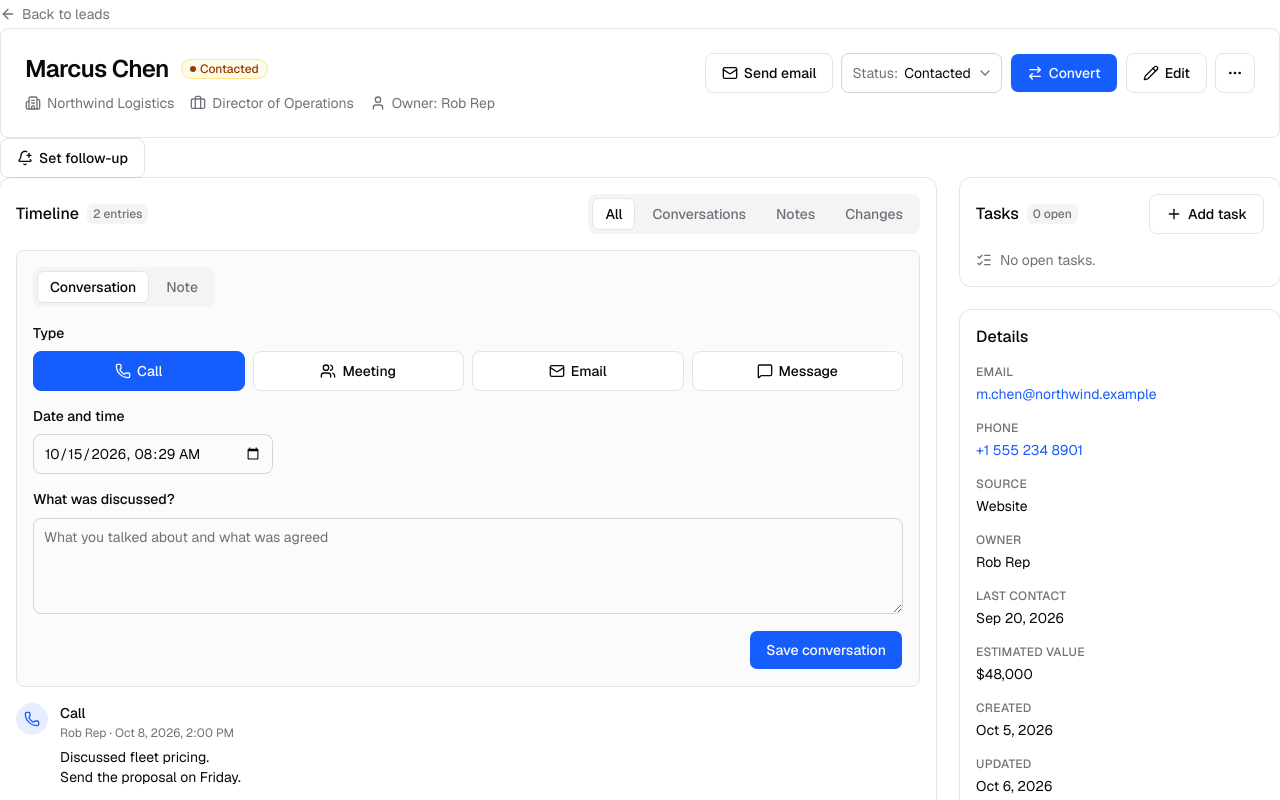
LeadDetailPage › offers Send email to every role that may write, and opens the composer for the lead
Expected: the heading "Marcus Chen" is shown, top-left (25, 53), bottom-right (169, 85)
Click the button "Send email": [769, 73] box top-left (705, 53), bottom-right (833, 93)
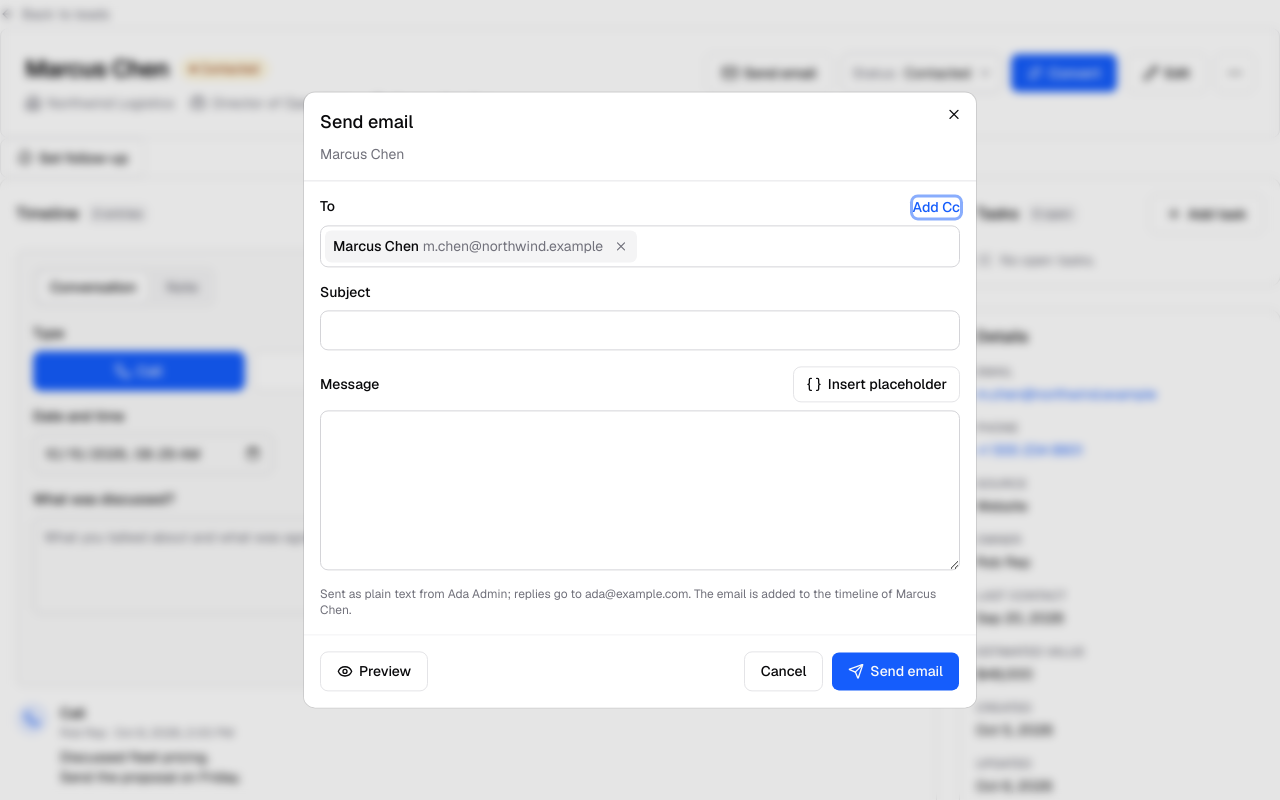
Expected: the dialog "Send email" shows "Marcus Chen", top-left (320, 145), bottom-right (404, 163)
